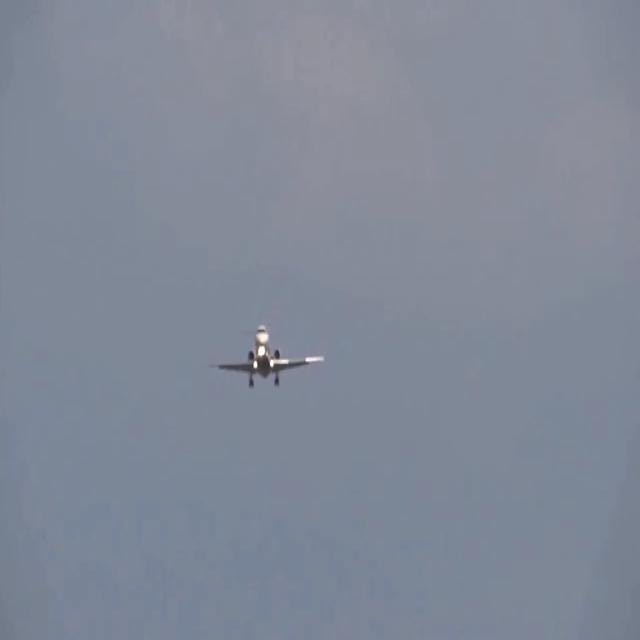AirPlane: (202, 308, 338, 398)
